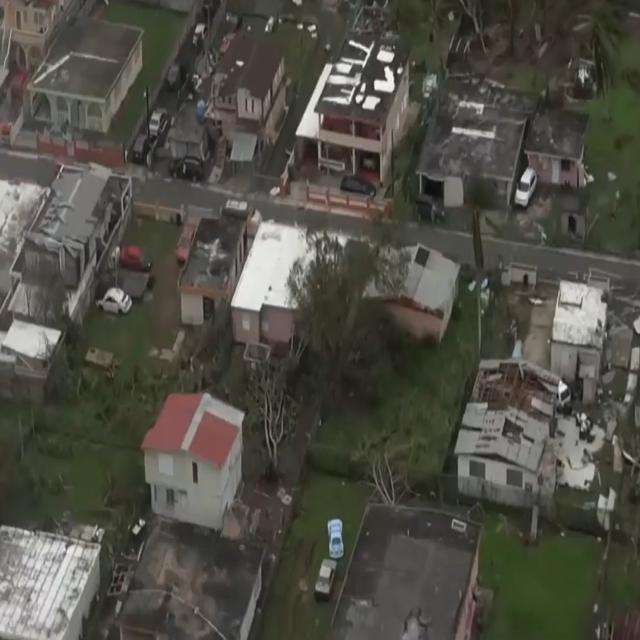house: (329, 497, 482, 640), (432, 78, 591, 207), (314, 0, 409, 191), (455, 359, 561, 516), (142, 386, 250, 538), (120, 530, 264, 640), (0, 165, 132, 282), (28, 13, 146, 138), (0, 518, 110, 638), (233, 217, 304, 355), (221, 28, 291, 144), (178, 210, 232, 326), (554, 272, 606, 386), (406, 239, 464, 341)
